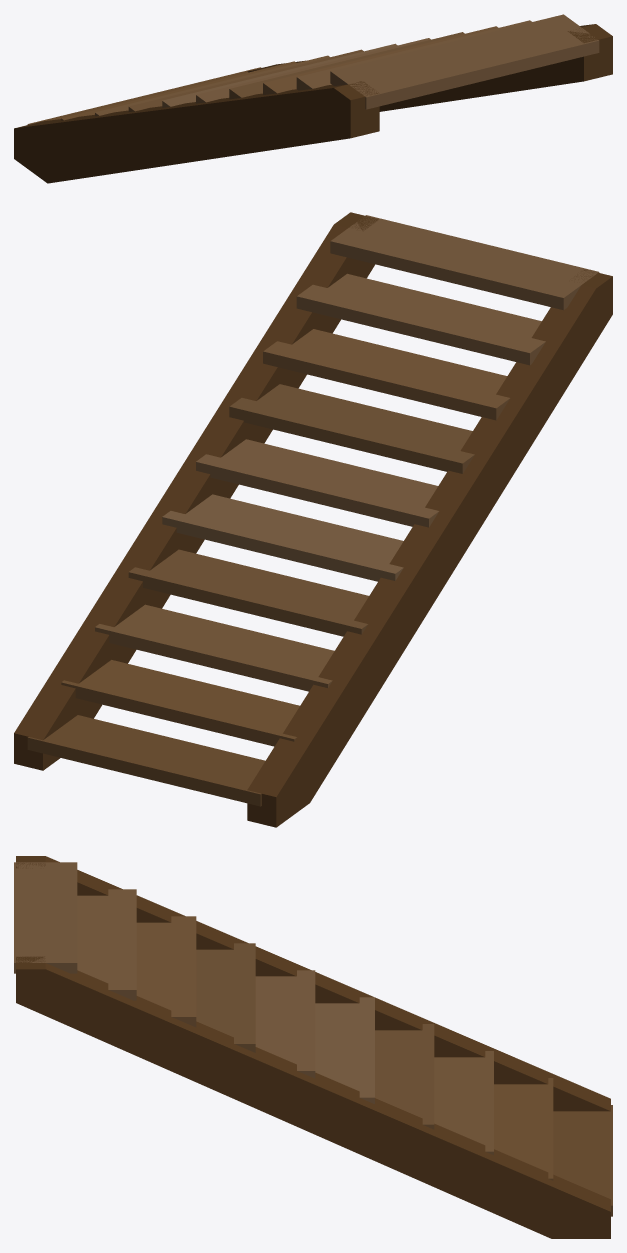
File: Stairs.glb
The picture shows the model from 3 angles, top to bottom: view 1: azimuth 30°, elevation 25°; view 2: azimuth 150°, elevation 25°; view 3: azimuth 270°, elevation 25°; orthographic projection. The views are drawn at different scales.
Visible parts, largest first — view 1: Body; view 2: Body; view 3: Body.
Boxes of the visible parts, x1=… form: Body: x1=14, y1=14, x2=612, y2=183; Body: x1=14, y1=212, x2=612, y2=827; Body: x1=14, y1=856, x2=612, y2=1238.
Size of what is drawn, in the model's own units: 3.6 by 4 by 8.05.
